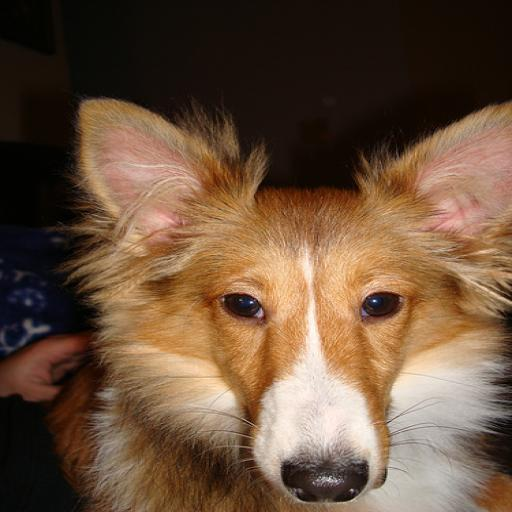dog_face: (78, 102, 509, 504)
